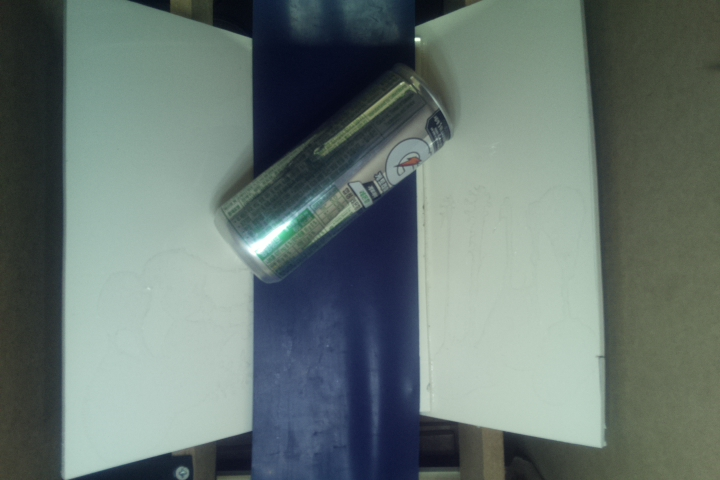can: (212, 64, 455, 284)
